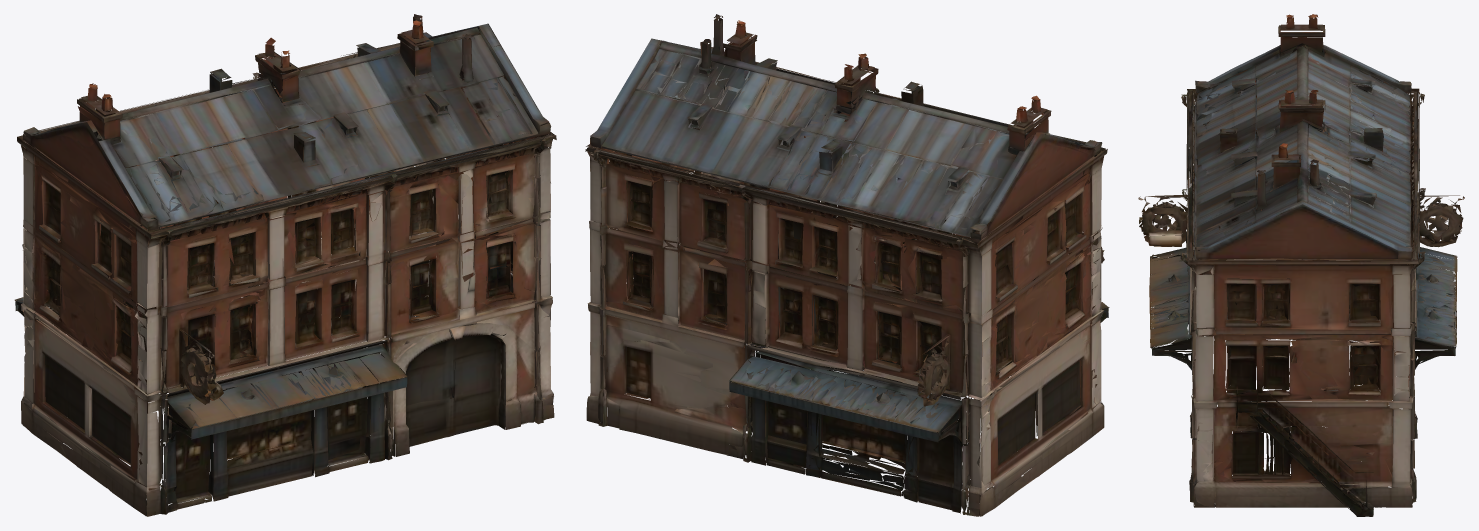
File: ch03_shop_printworks_rowhouse.glb
The picture shows the model from 3 angles, left to right: view 1: azimuth 30°, elevation 25°; view 2: azimuth 150°, elevation 25°; view 3: azimuth 270°, elevation 25°; orthographic projection. The views are drawn at different scales.
Parts seen in each view (by area): view 1: material; view 2: material; view 3: material.
Part boxes in pixels (left/top/right/bottom): material: left=14, top=14, right=556, bottom=516; material: left=585, top=14, right=1109, bottom=516; material: left=1138, top=14, right=1464, bottom=516.
Size of the model in its own units: 0.8581 by 0.7279 by 0.6527.
Materials: 1 (1 with a texture image).
